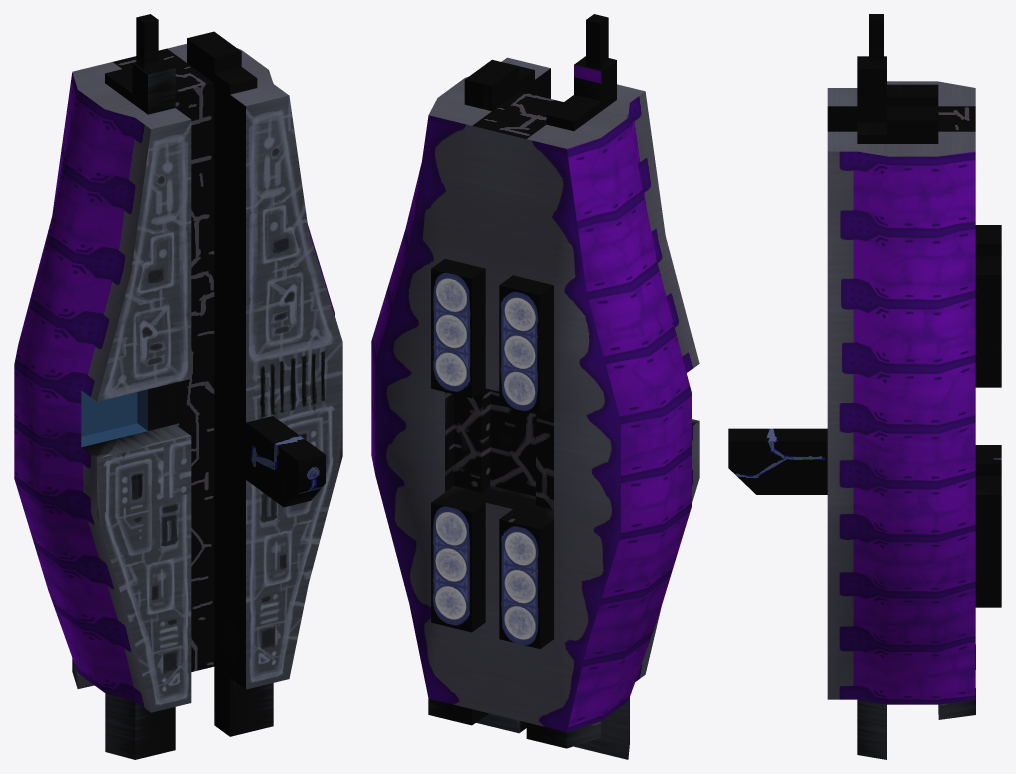
Rendered from MotherShip.dae.
The picture shows the model from 3 angles, left to right: view 1: azimuth 30°, elevation 25°; view 2: azimuth 150°, elevation 25°; view 3: azimuth 270°, elevation 25°; orthographic projection. The views are drawn at different scales.
Parts seen in each view (by area): view 1: Cube; view 2: Cube; view 3: Cube.
Part boxes in pixels (box(x1,y1,x2,y2)): Cube: box(14, 14, 342, 759); Cube: box(371, 14, 699, 759); Cube: box(728, 14, 1001, 759).
Bounding box in the file's own units: 5.38 × 4.62 × 12.76.
1 material, 1 textured.
